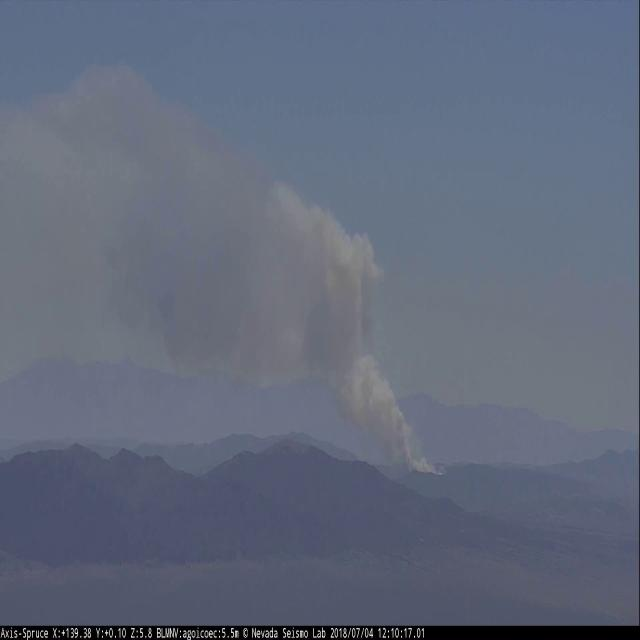smoke: (22, 49, 452, 486)
